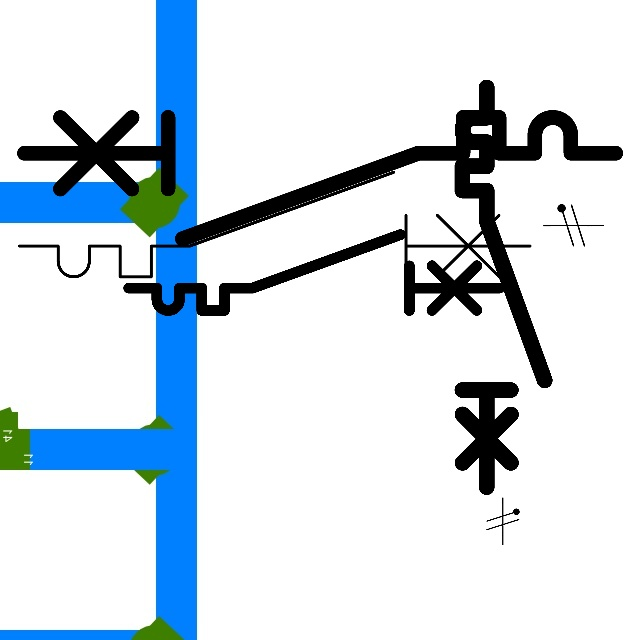interruptor_termomagnetico: (9, 102, 631, 254), (6, 159, 543, 290), (452, 77, 555, 497), (119, 225, 509, 320)
